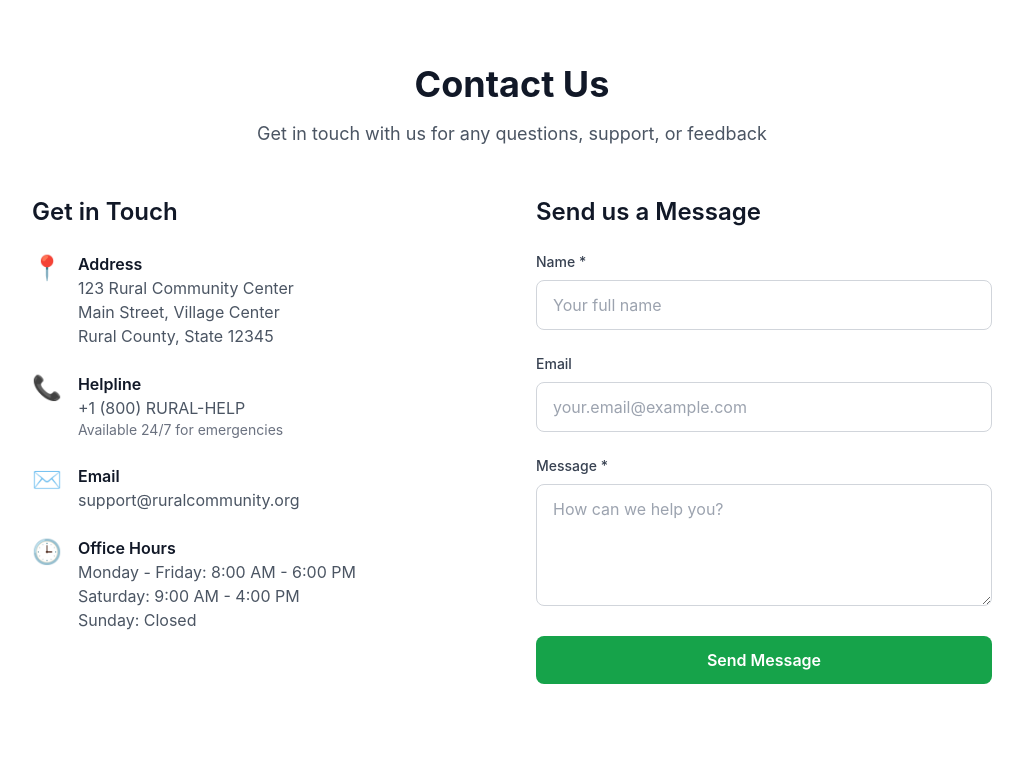
Scenario: ContactSection › Error Handling › handles server error
Type "John Doe" into the field labelled "Name *" at (764, 305), box [536, 280, 992, 330]
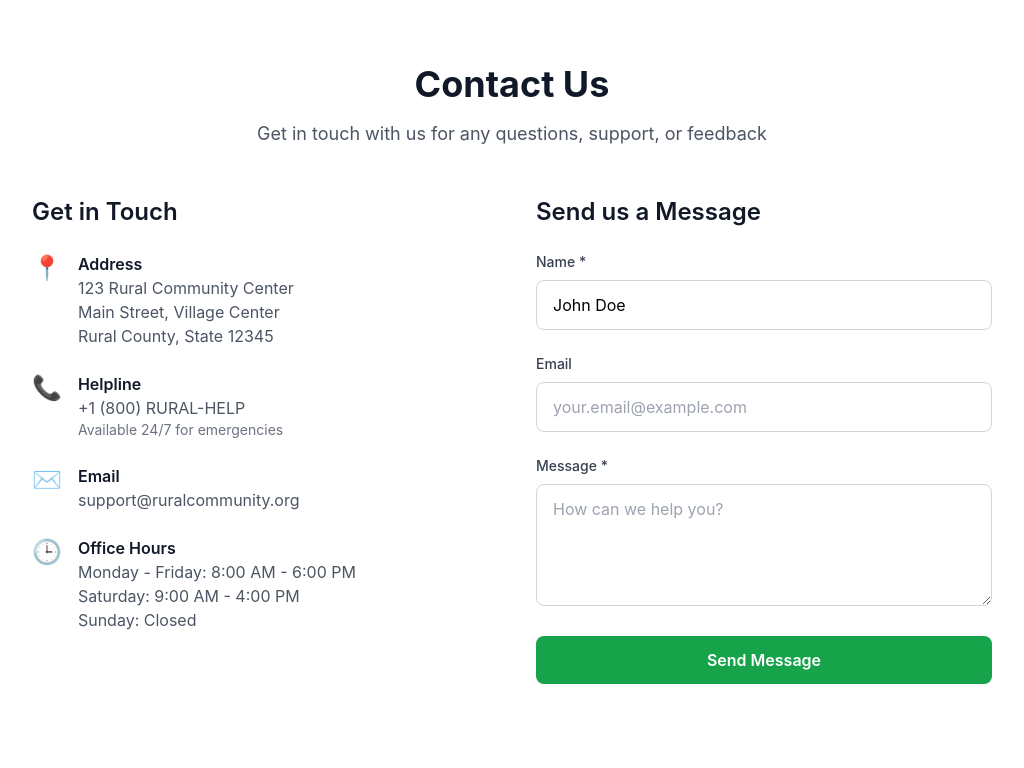
Type "This is a test message with enough characters." into the text box labelled "Message *" at (764, 545), box [536, 484, 992, 606]
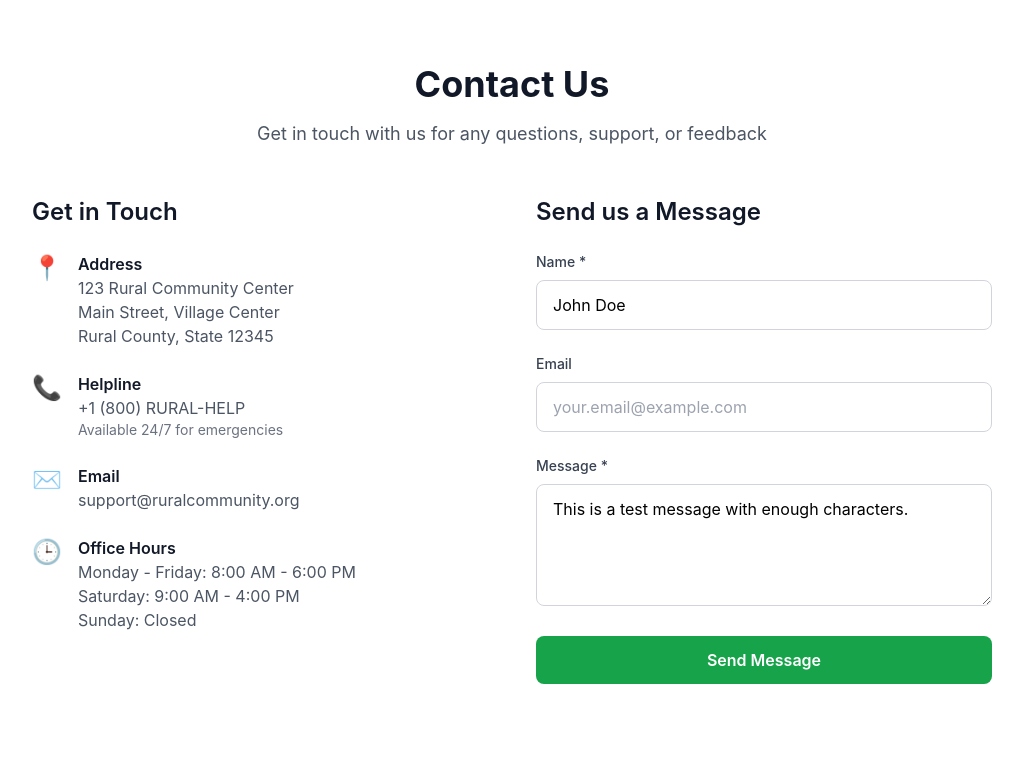
Click the button "Send Message" at (764, 660), box [536, 636, 992, 684]
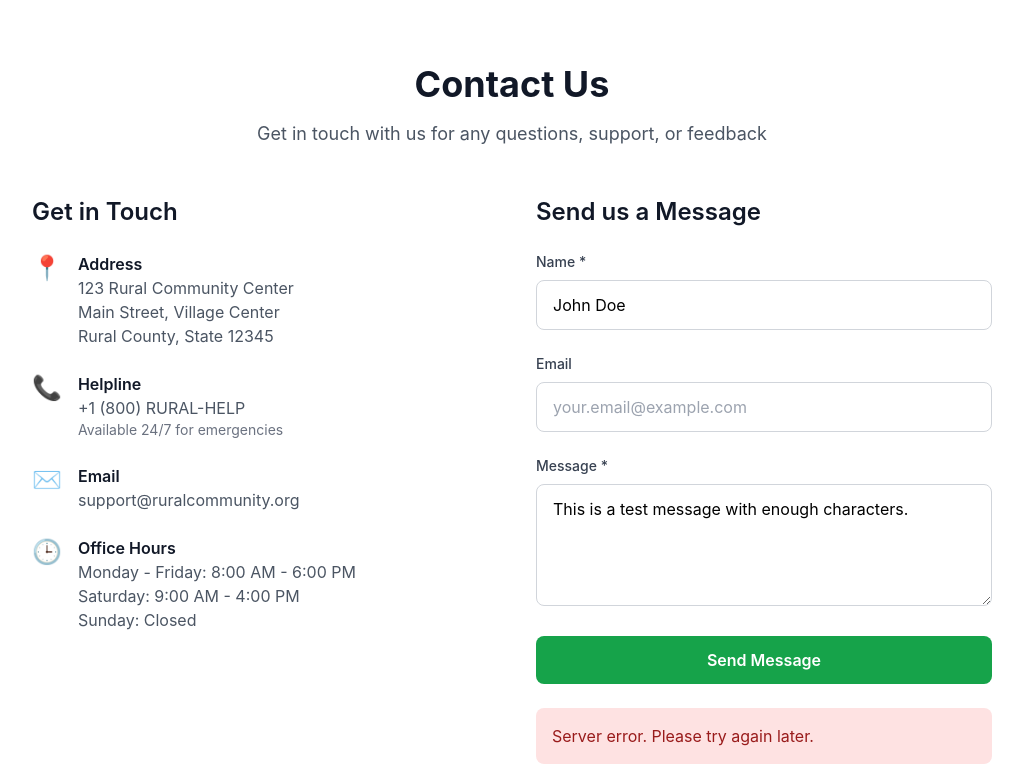
Result: the text "Server error. Please try again later." is shown at [536, 708, 992, 764]
